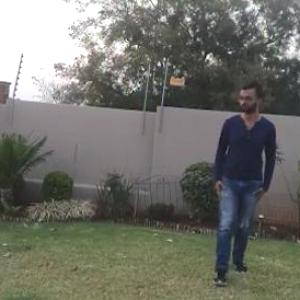follow: (210, 78, 274, 286)
